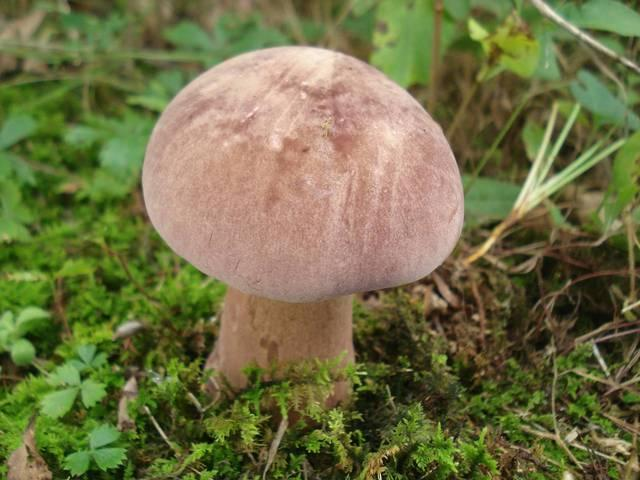poisonous_mushroom: (139, 43, 465, 430)
